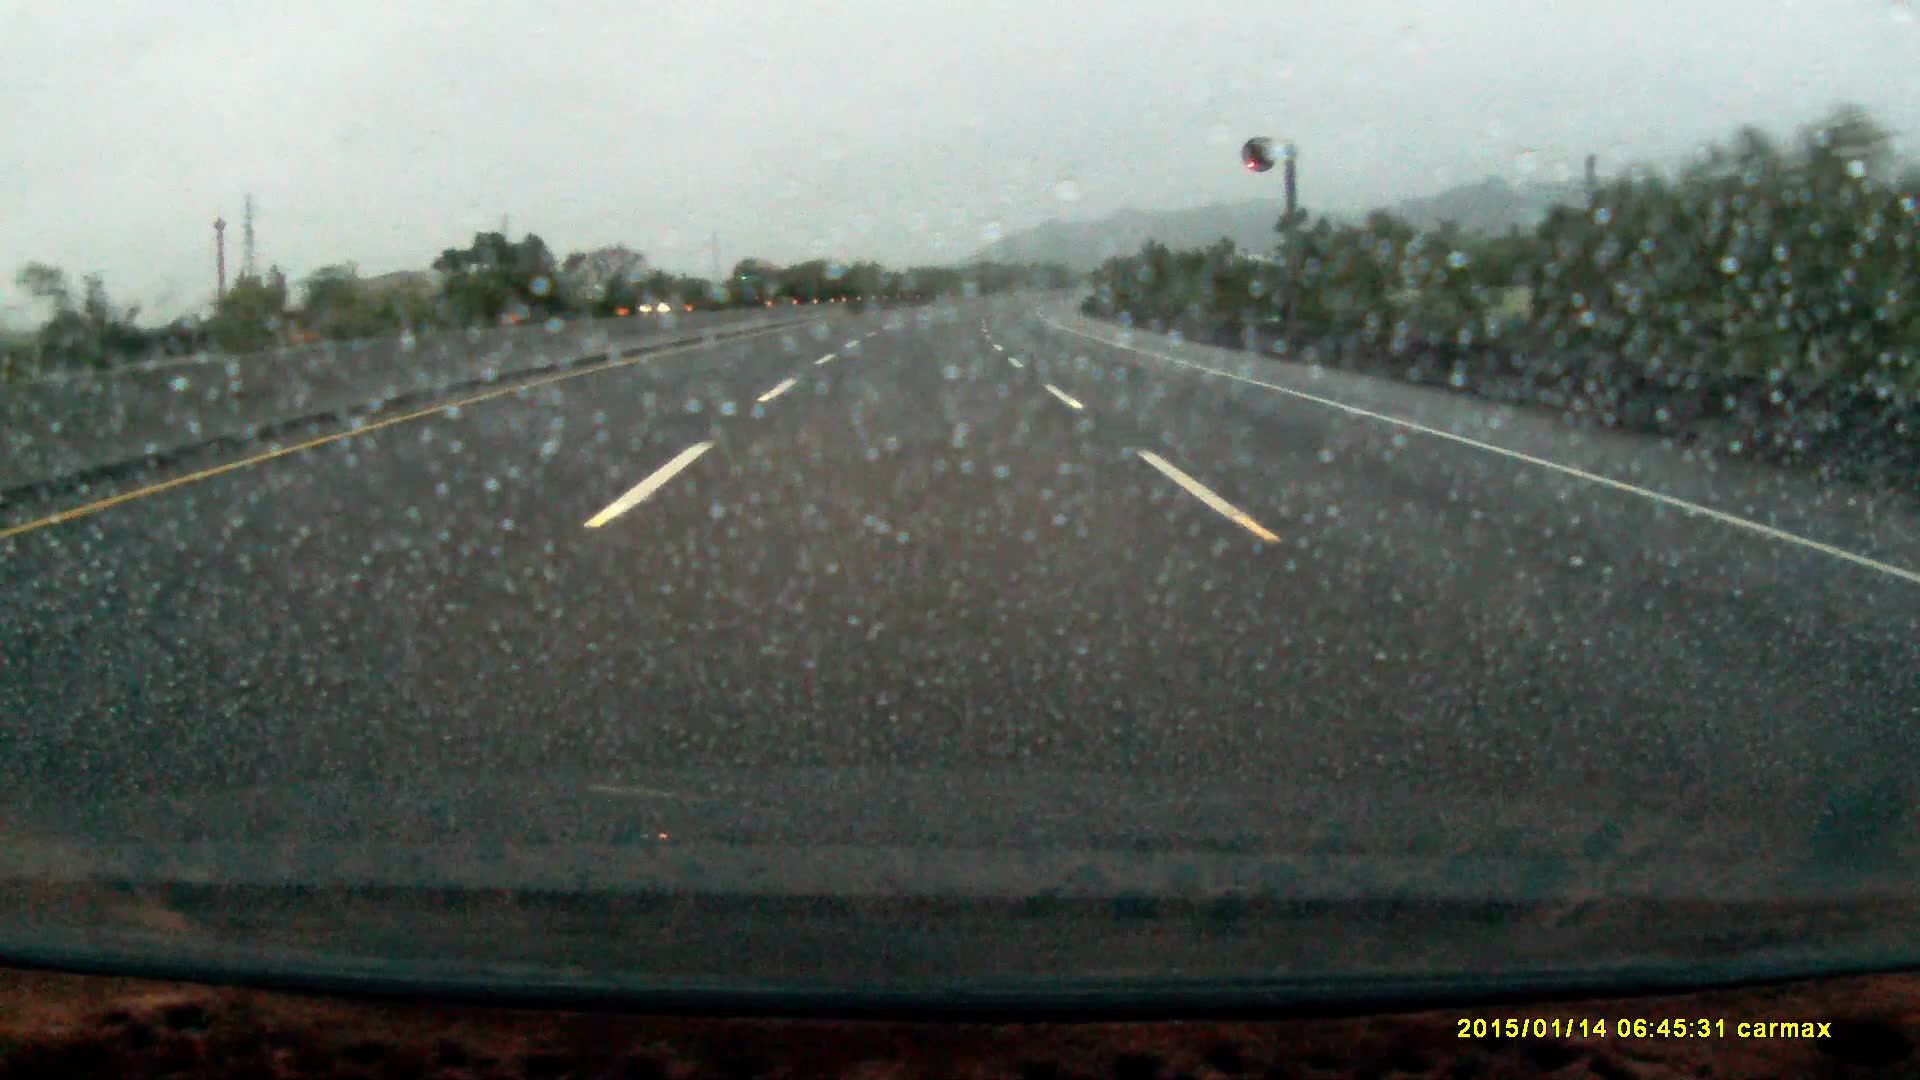vehicle: (727, 258, 771, 303), (638, 289, 688, 314)
